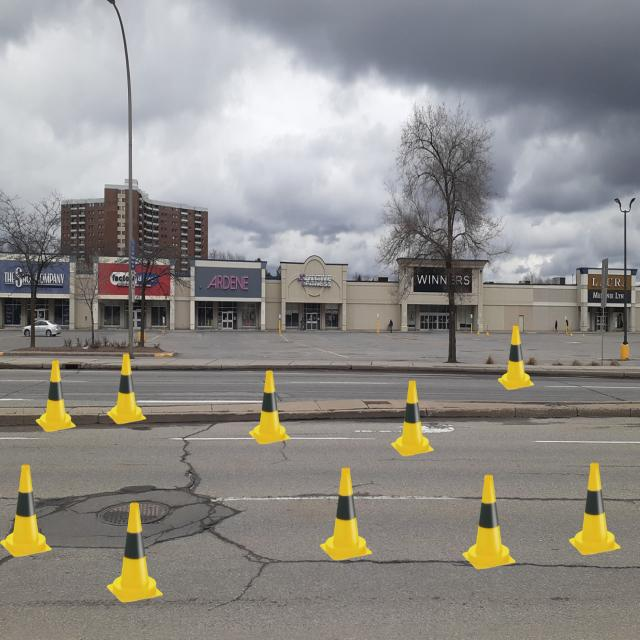yellow_cone: (106, 502, 162, 602), (462, 474, 516, 570), (320, 468, 372, 560), (0, 465, 52, 557), (569, 463, 621, 555), (391, 381, 434, 456), (249, 370, 290, 444), (35, 360, 76, 432), (107, 354, 146, 424), (498, 325, 534, 390)
